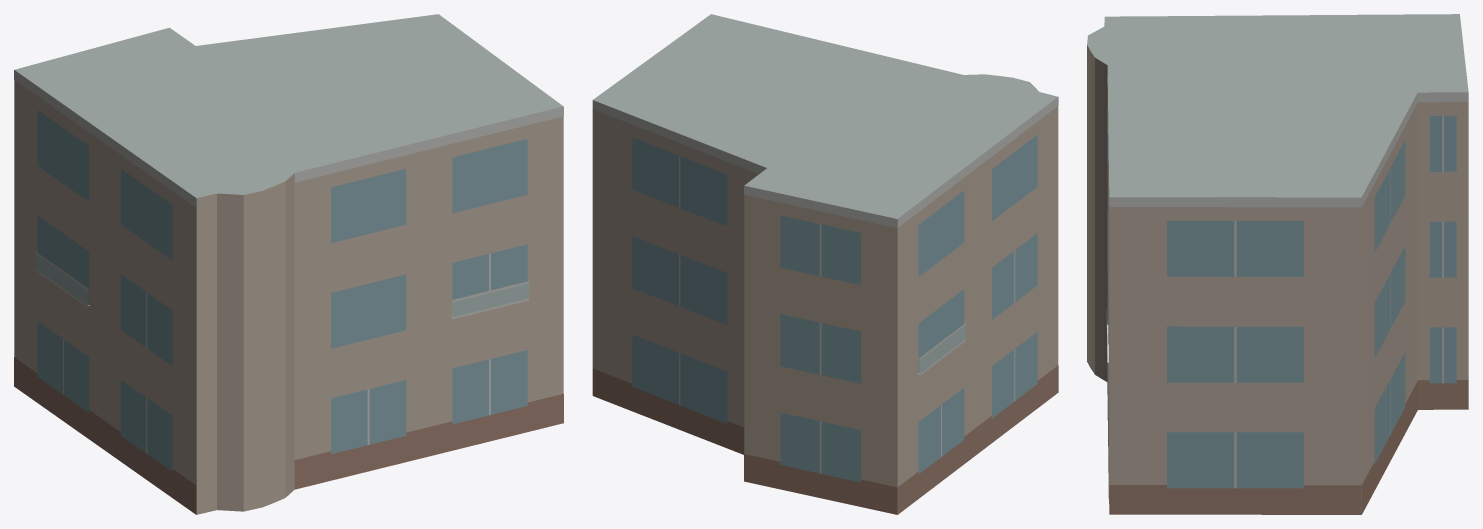
File: survey-upis-32926846.glb
The picture shows the model from 3 angles, left to right: view 1: azimuth 30°, elevation 25°; view 2: azimuth 150°, elevation 25°; view 3: azimuth 270°, elevation 25°; orthographic projection. The views are drawn at different scales.
Visible parts, largest first — view 1: survey-upis-32926846.tmp; view 2: survey-upis-32926846.tmp; view 3: survey-upis-32926846.tmp.
Boxes of the visible parts, x1,y1,x2,y2 form: survey-upis-32926846.tmp: (14, 14, 563, 514); survey-upis-32926846.tmp: (592, 14, 1058, 514); survey-upis-32926846.tmp: (1087, 14, 1468, 514).
Size of the model in its own units: 9.83 by 7.9 by 8.62.
